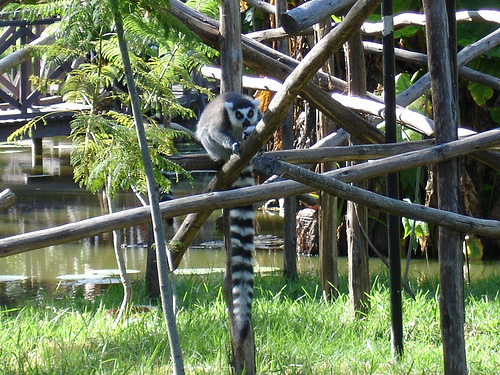cat: (194, 91, 270, 349)
